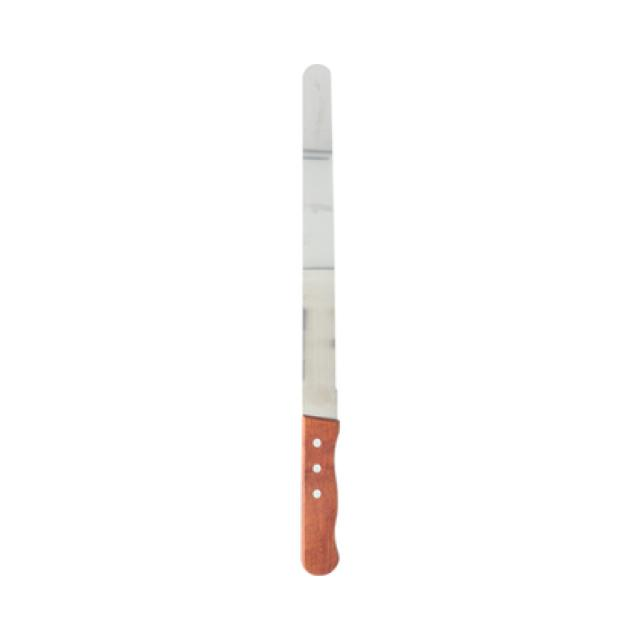Knife: (300, 64, 338, 576)
